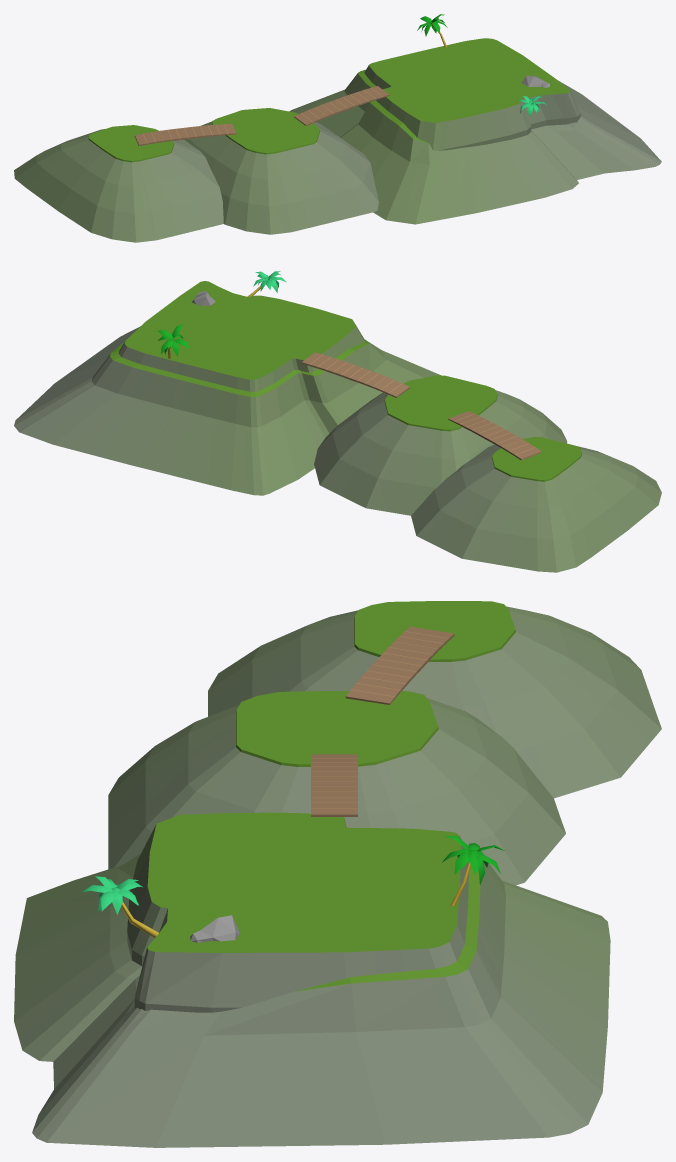
The model's file is Islands_14.fbx.
The picture shows the model from 3 angles, top to bottom: view 1: azimuth 30°, elevation 25°; view 2: azimuth 150°, elevation 25°; view 3: azimuth 270°, elevation 25°; orthographic projection. The views are drawn at different scales.
Visible parts, largest first — view 1: Islands_14; view 2: Islands_14; view 3: Islands_14.
Part boxes in pixels (left/top/right/bottom): Islands_14: left=14, top=14, right=661, bottom=242; Islands_14: left=14, top=271, right=661, bottom=572; Islands_14: left=14, top=601, right=661, bottom=1147.
Size of the model in its own units: 15218 by 2746 by 8461.
